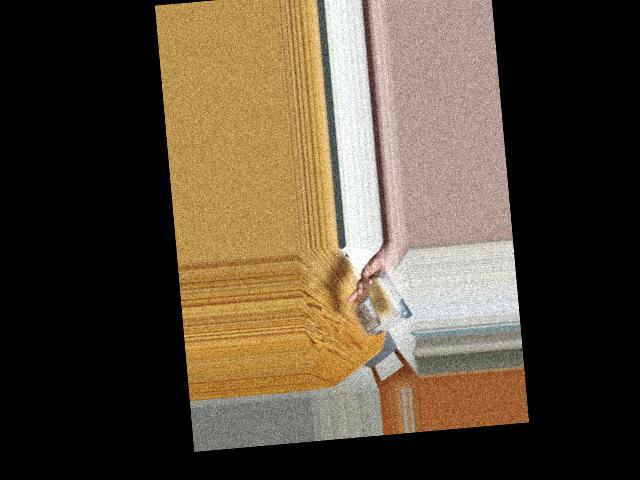cheese: (357, 268, 408, 338)
